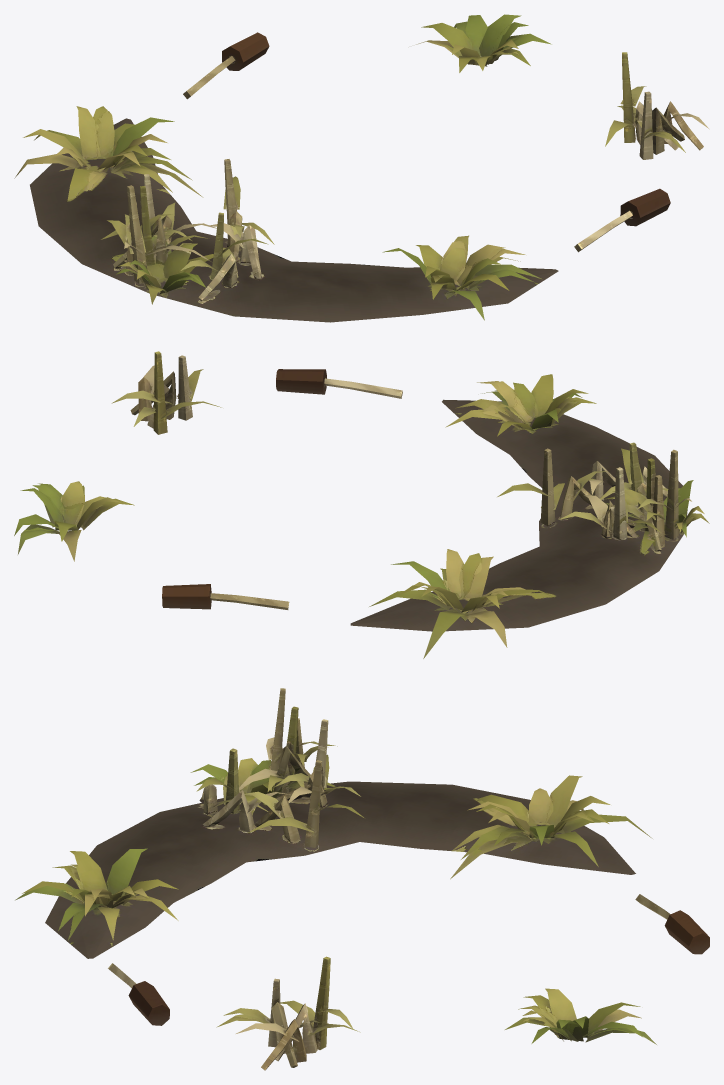
File: rough-marsh-1.hq.glb
The picture shows the model from 3 angles, top to bottom: view 1: azimuth 30°, elevation 25°; view 2: azimuth 150°, elevation 25°; view 3: azimuth 270°, elevation 25°; orthographic projection. The views are drawn at different scales.
Parts seen in each view (by area): view 1: rough-marsh-1; view 2: rough-marsh-1; view 3: rough-marsh-1.
Part boxes in pixels (<box>): rough-marsh-1: <box>14,14,709,322</box>; rough-marsh-1: <box>14,351,709,658</box>; rough-marsh-1: <box>15,688,709,1070</box>.
Bounding box in the file's own units: 1.48 × 0.2661 × 1.49.
1 material, 1 textured.
